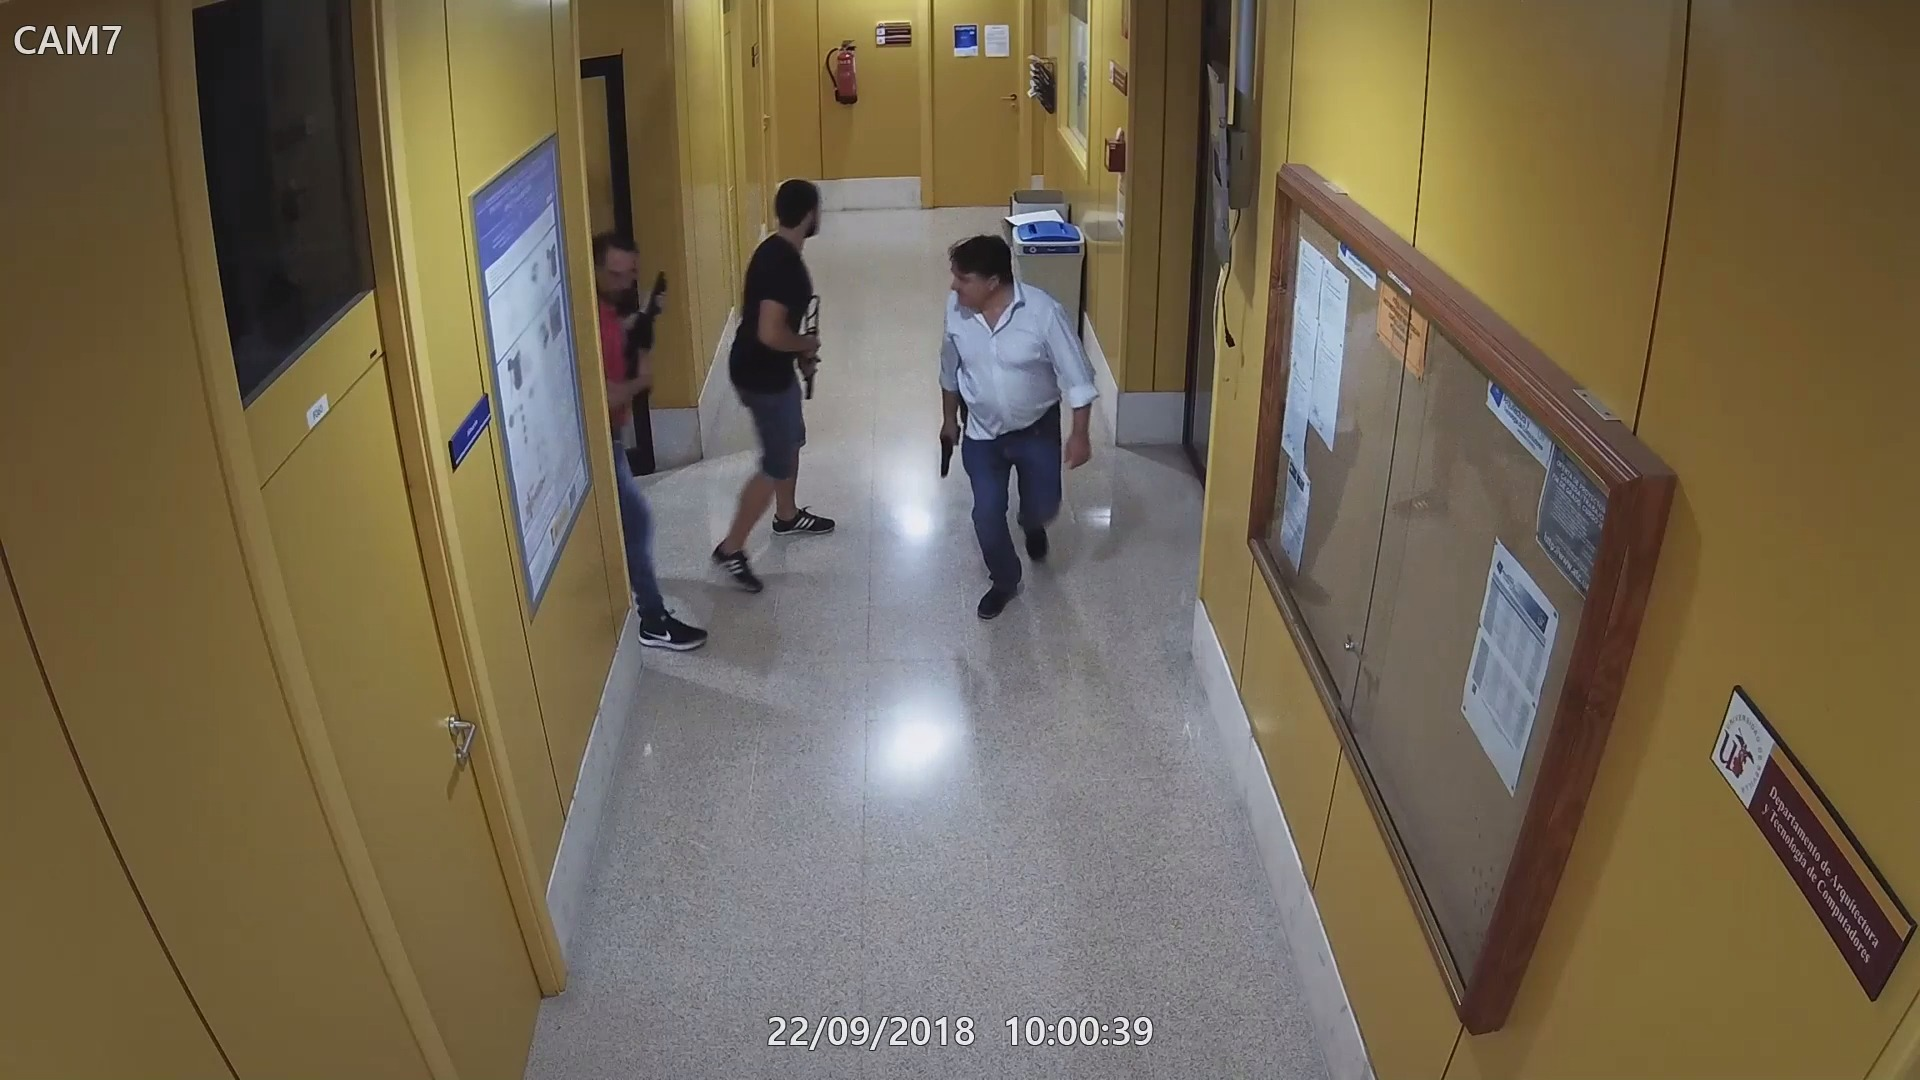Handgun: (938, 425, 959, 477)
Short_rifle: (621, 256, 673, 384), (799, 289, 825, 396)
